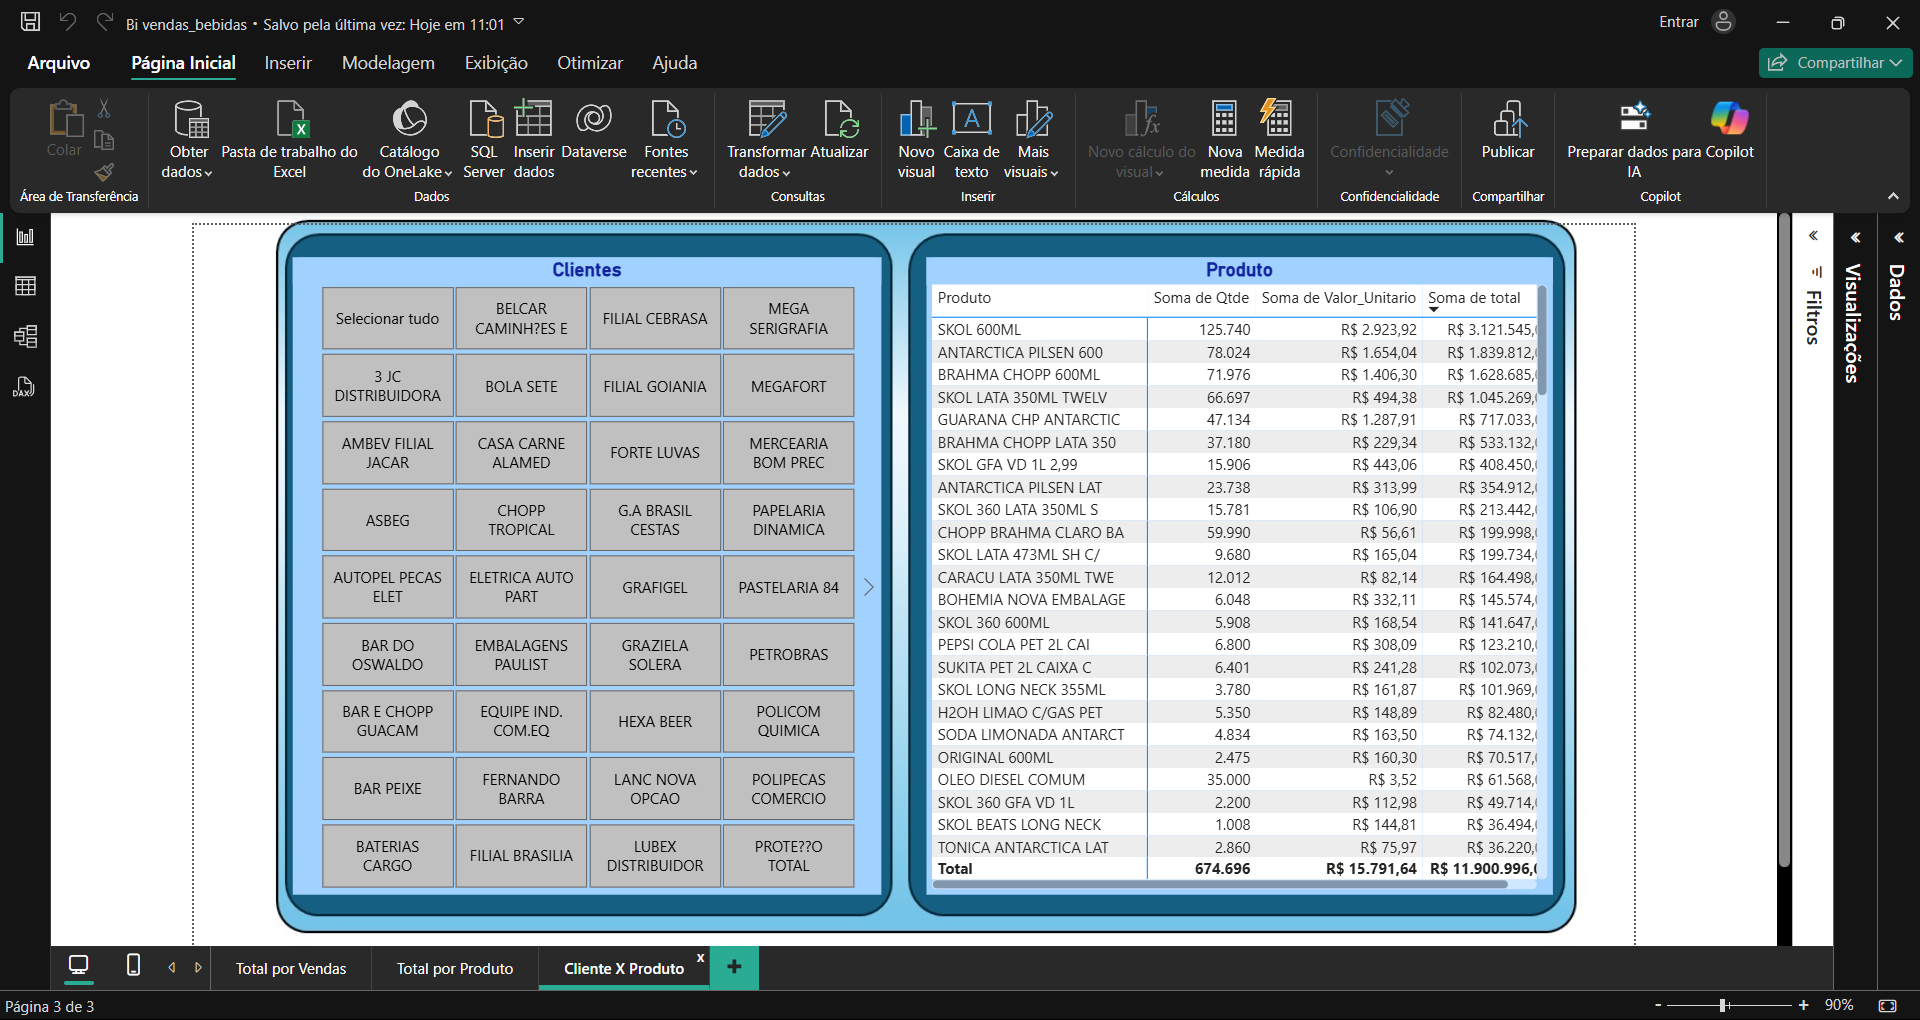

Layout of this report page (visuals, bound fields, positions):
{"tool":"powerbi","page":{"name":"Cliente X Produto","canvas":[1280,720],"ordinal":2},"visuals":[{"type":"pivotTable","title":"Produto","fields":{"Rows":["vendas_bebidas bebidas.Produto"],"Values":["vendas_bebidas bebidas.Qtde","vendas_bebidas bebidas.Valor_Unitario","vendas_bebidas bebidas.total"]},"box":[651.1,28.9,556.7,566.7],"z":0},{"type":"slicer","title":"Clientes","fields":{"Values":["vendas_bebidas bebidas.Cliente"]},"box":[87.8,28.9,523.3,566.7],"z":1000}]}

Visuals, with their boxes on the page's 1280x720 design canvas (x1, y1, x2, y2). These are canvas units, not pixel positions in the 1920x1020 screenshot, which may show the page scaled, cropped or inside an application window:
"Produto" pivotTable: 651:29:1208:596
"Clientes" slicer: 88:29:611:596
